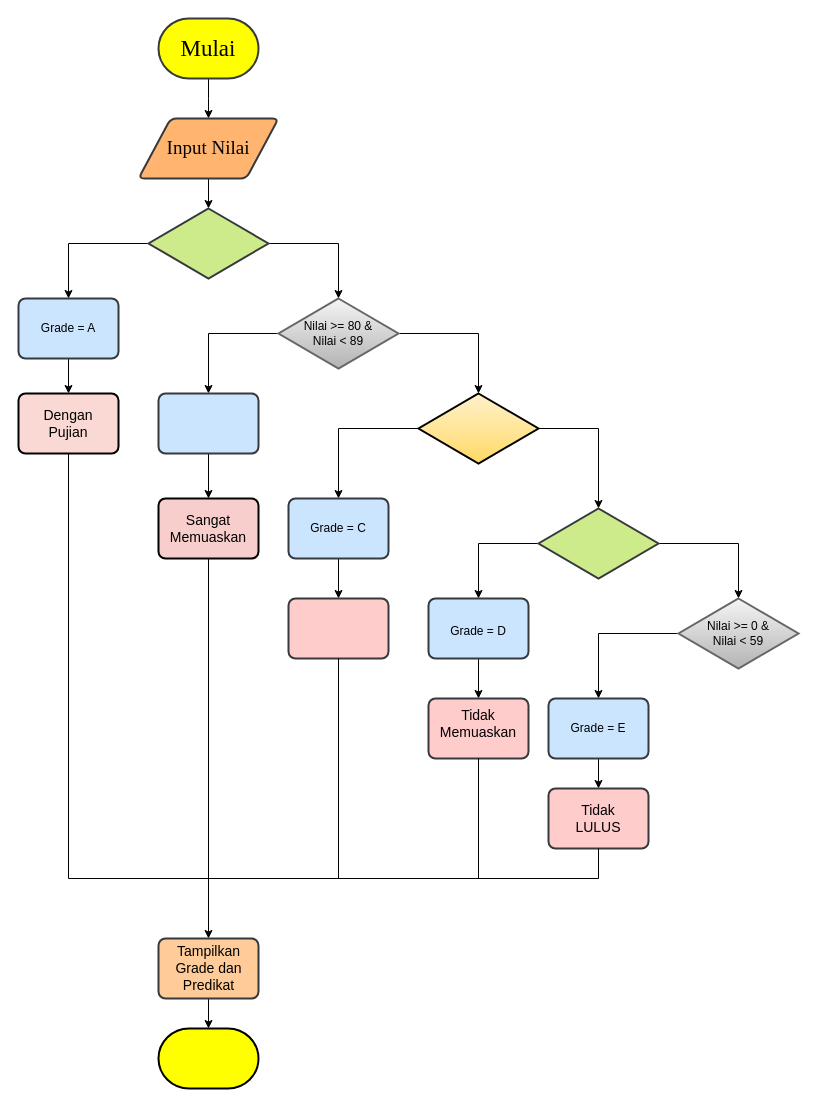
Some shapes in this 816 by 1106 pixel diagram are drawn without their labels. The shapes that lost their labels are listed below. From the top down, each one's box as (x1, y1, x2, y2) in pixels, then its label:
(147, 207, 269, 279): Nilai >= 90 & Nilai < 100
(157, 392, 259, 454): Grade = B
(417, 392, 539, 464): Nilai >= 70 & Nilai < 79
(537, 507, 659, 579): Nilai >= 60 & Nilai < 69
(287, 597, 389, 659): Memuaskan
(157, 1027, 259, 1089): Selesai
